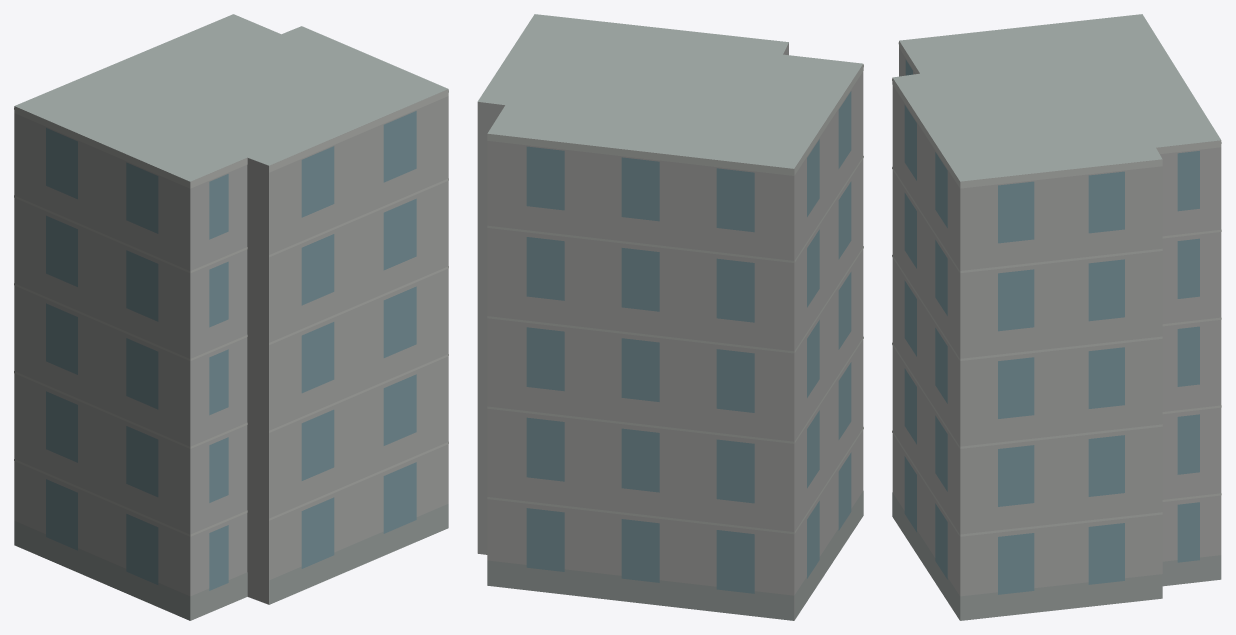
The model's file is survey-upis-32661281.glb.
3 views of the same model, side by side, from view 1: azimuth 30°, elevation 25°; view 2: azimuth 150°, elevation 25°; view 3: azimuth 270°, elevation 25° (orthographic). The views are drawn at different scales.
Parts seen in each view (by area): view 1: survey-upis-32661281.tmp; view 2: survey-upis-32661281.tmp; view 3: survey-upis-32661281.tmp.
Part boxes in pixels (left/top/right/bottom): survey-upis-32661281.tmp: left=14, top=14, right=448, bottom=620; survey-upis-32661281.tmp: left=477, top=14, right=863, bottom=620; survey-upis-32661281.tmp: left=892, top=14, right=1221, bottom=620.
Bounding box in the file's own units: 12.63 × 15.4 × 10.48.
